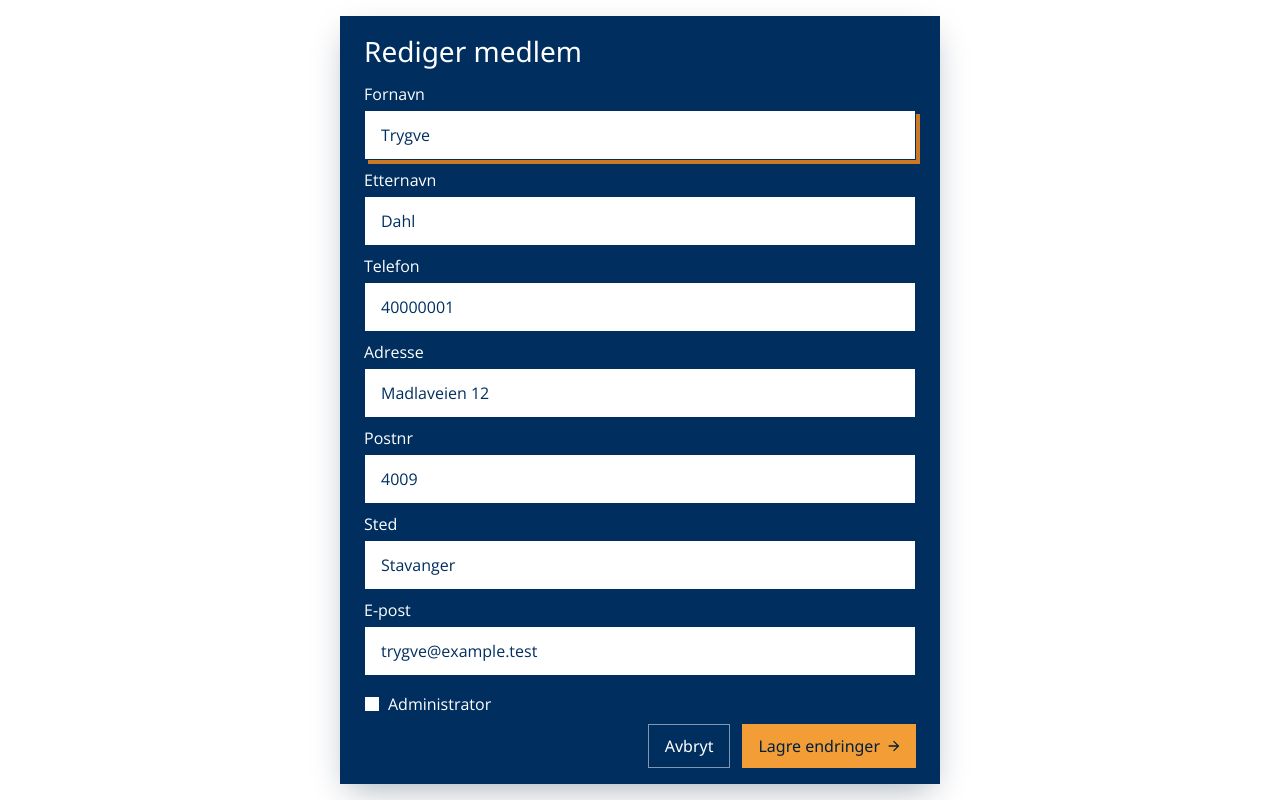
MemberForm › awaits the save before closing, and stays open on failure (#169)
Click the button "Lagre endringer": {"x": 829, "y": 746} [742,724,916,768]
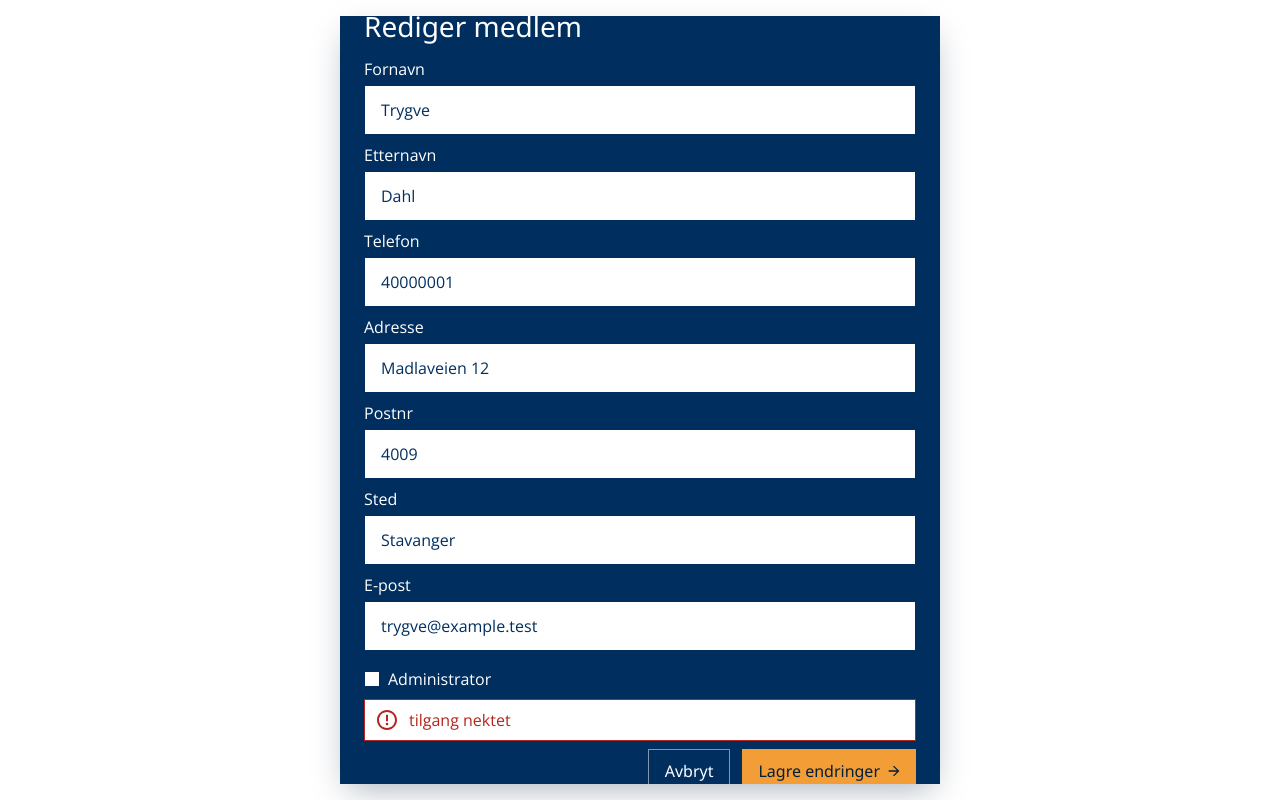
Check: the message reads "tilgang nektet", box [409,709,511,731]
